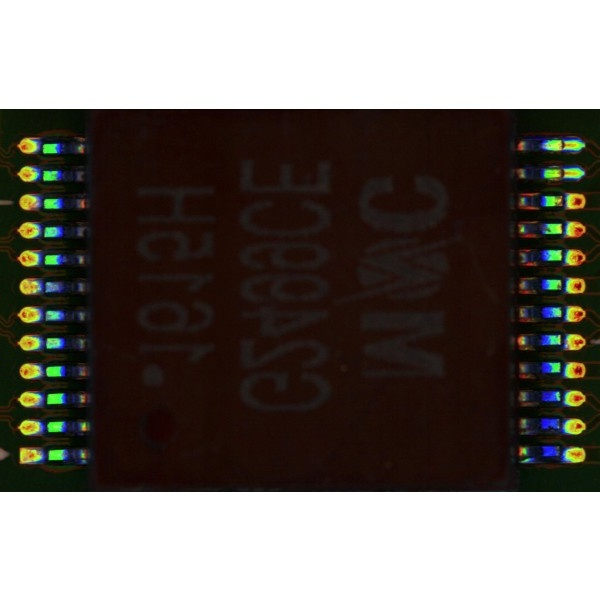Bad_podu: (556, 142, 575, 150), (554, 170, 577, 176)
